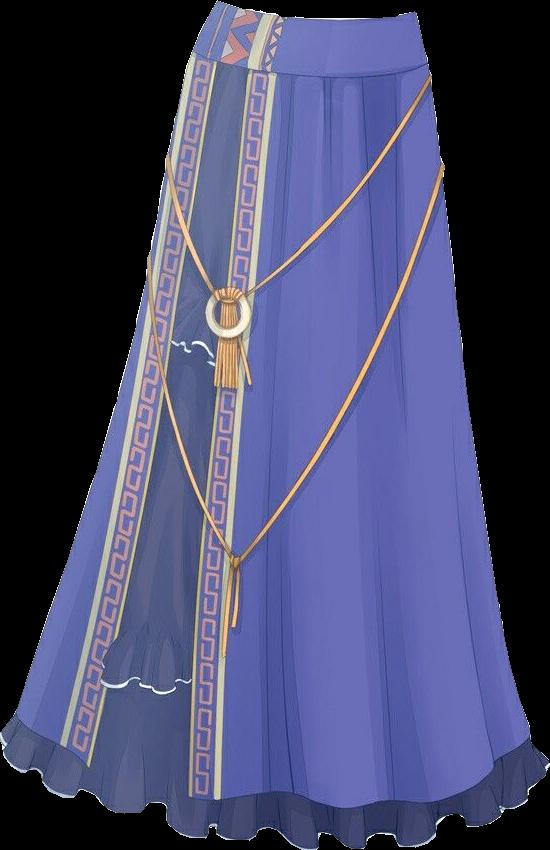Hemline: (188, 65, 536, 812), (12, 57, 221, 769), (0, 728, 549, 849)
Waistline: (189, 43, 430, 83), (213, 0, 418, 28)
